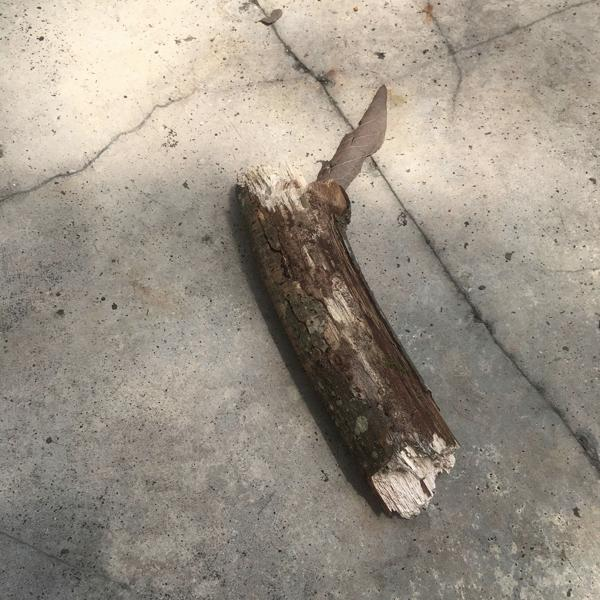Organik: (220, 126, 474, 536)
